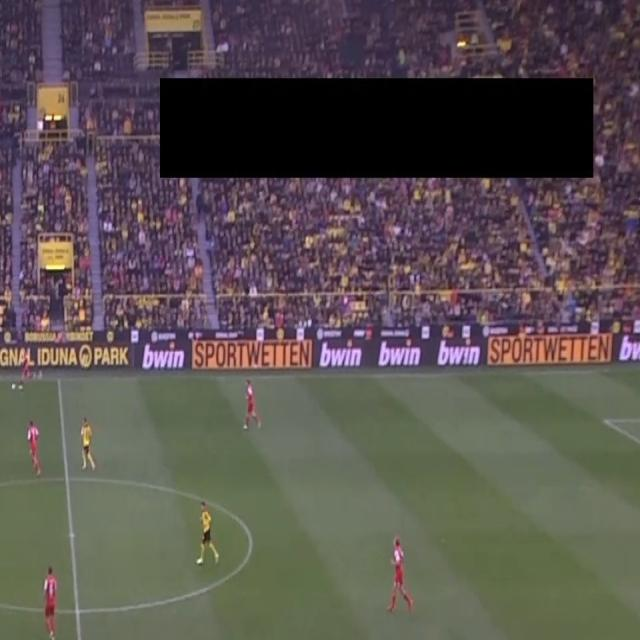ball: (10, 380, 16, 392)
